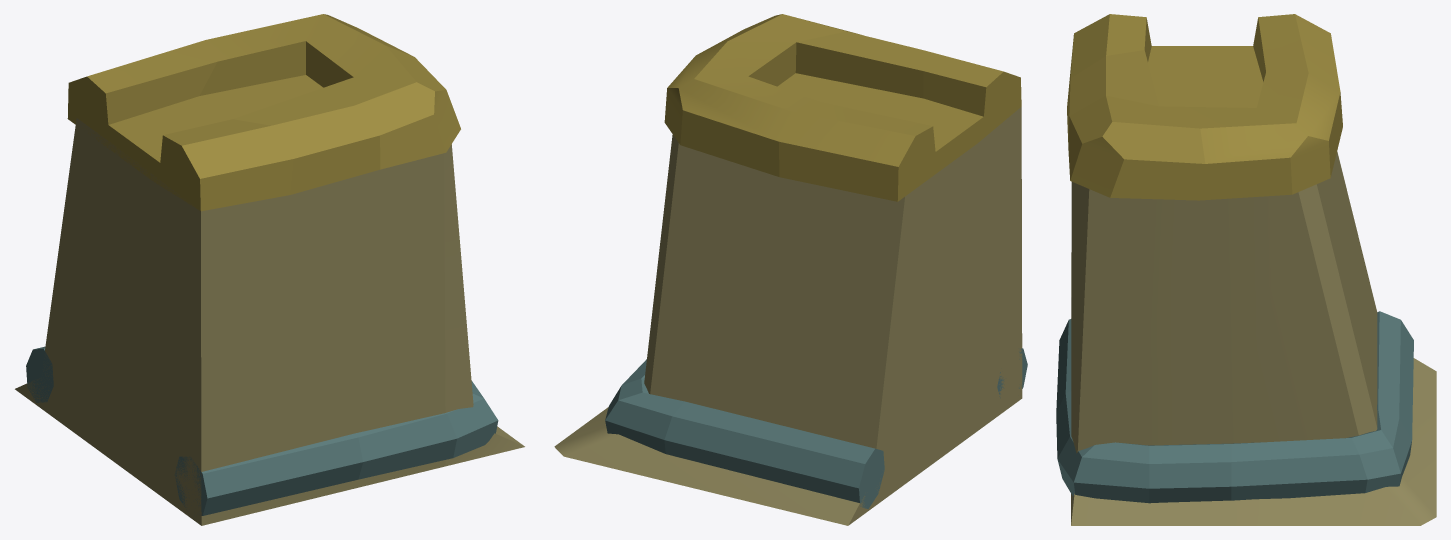
Rendered from Int_17_Wall_Hor_End_Left.fbx.
3 renders of one model, left to right at view 1: azimuth 30°, elevation 25°; view 2: azimuth 150°, elevation 25°; view 3: azimuth 270°, elevation 25°, orthographic. The views are drawn at different scales.
Parts seen in each view (by area): view 1: Int_17_Wall_Hor_End_Left; view 2: Int_17_Wall_Hor_End_Left; view 3: Int_17_Wall_Hor_End_Left.
Part boxes in pixels (left/top/right/bottom): Int_17_Wall_Hor_End_Left: left=15, top=14, right=524, bottom=525; Int_17_Wall_Hor_End_Left: left=554, top=14, right=1027, bottom=525; Int_17_Wall_Hor_End_Left: left=1056, top=14, right=1436, bottom=525.
Bounding box in the file's own units: 1 × 1.09 × 1.04.
